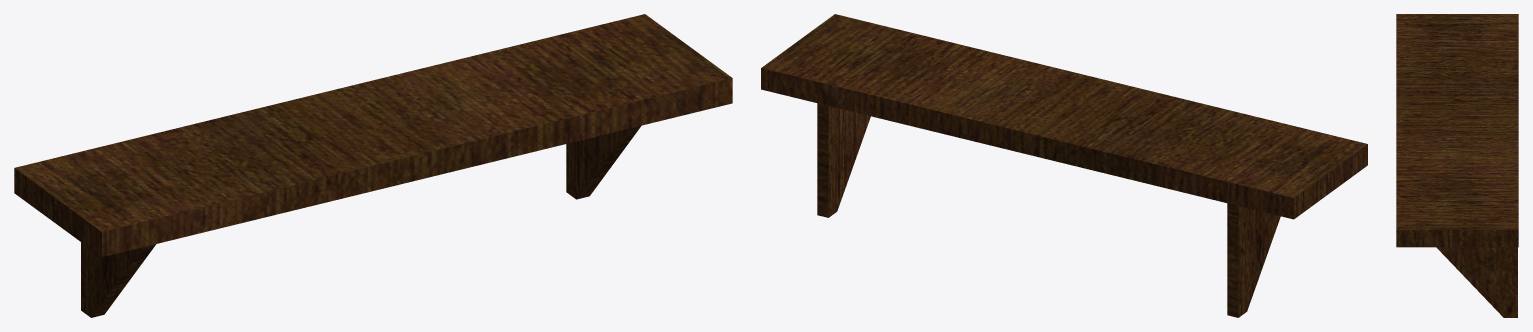
The model's file is WoodShelf.glb.
The picture shows the model from 3 angles, left to right: view 1: azimuth 30°, elevation 25°; view 2: azimuth 150°, elevation 25°; view 3: azimuth 270°, elevation 25°; orthographic projection. The views are drawn at different scales.
Visible parts, largest first — view 1: Shelf; view 2: Shelf; view 3: Shelf.
Boxes of the visible parts, bbox=[...] form: Shelf: bbox=[14, 14, 732, 317]; Shelf: bbox=[761, 14, 1367, 317]; Shelf: bbox=[1396, 14, 1518, 317].
Bounding box in the file's own units: 1.04 × 0.2496 × 0.2498.
1 material, 1 textured.
